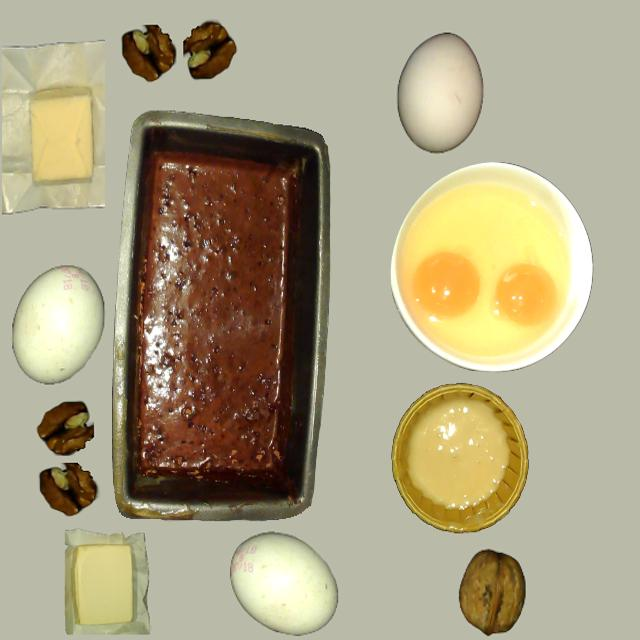Egg: (413, 251, 481, 319), (494, 263, 558, 326)
Walnut: (458, 551, 526, 635)
